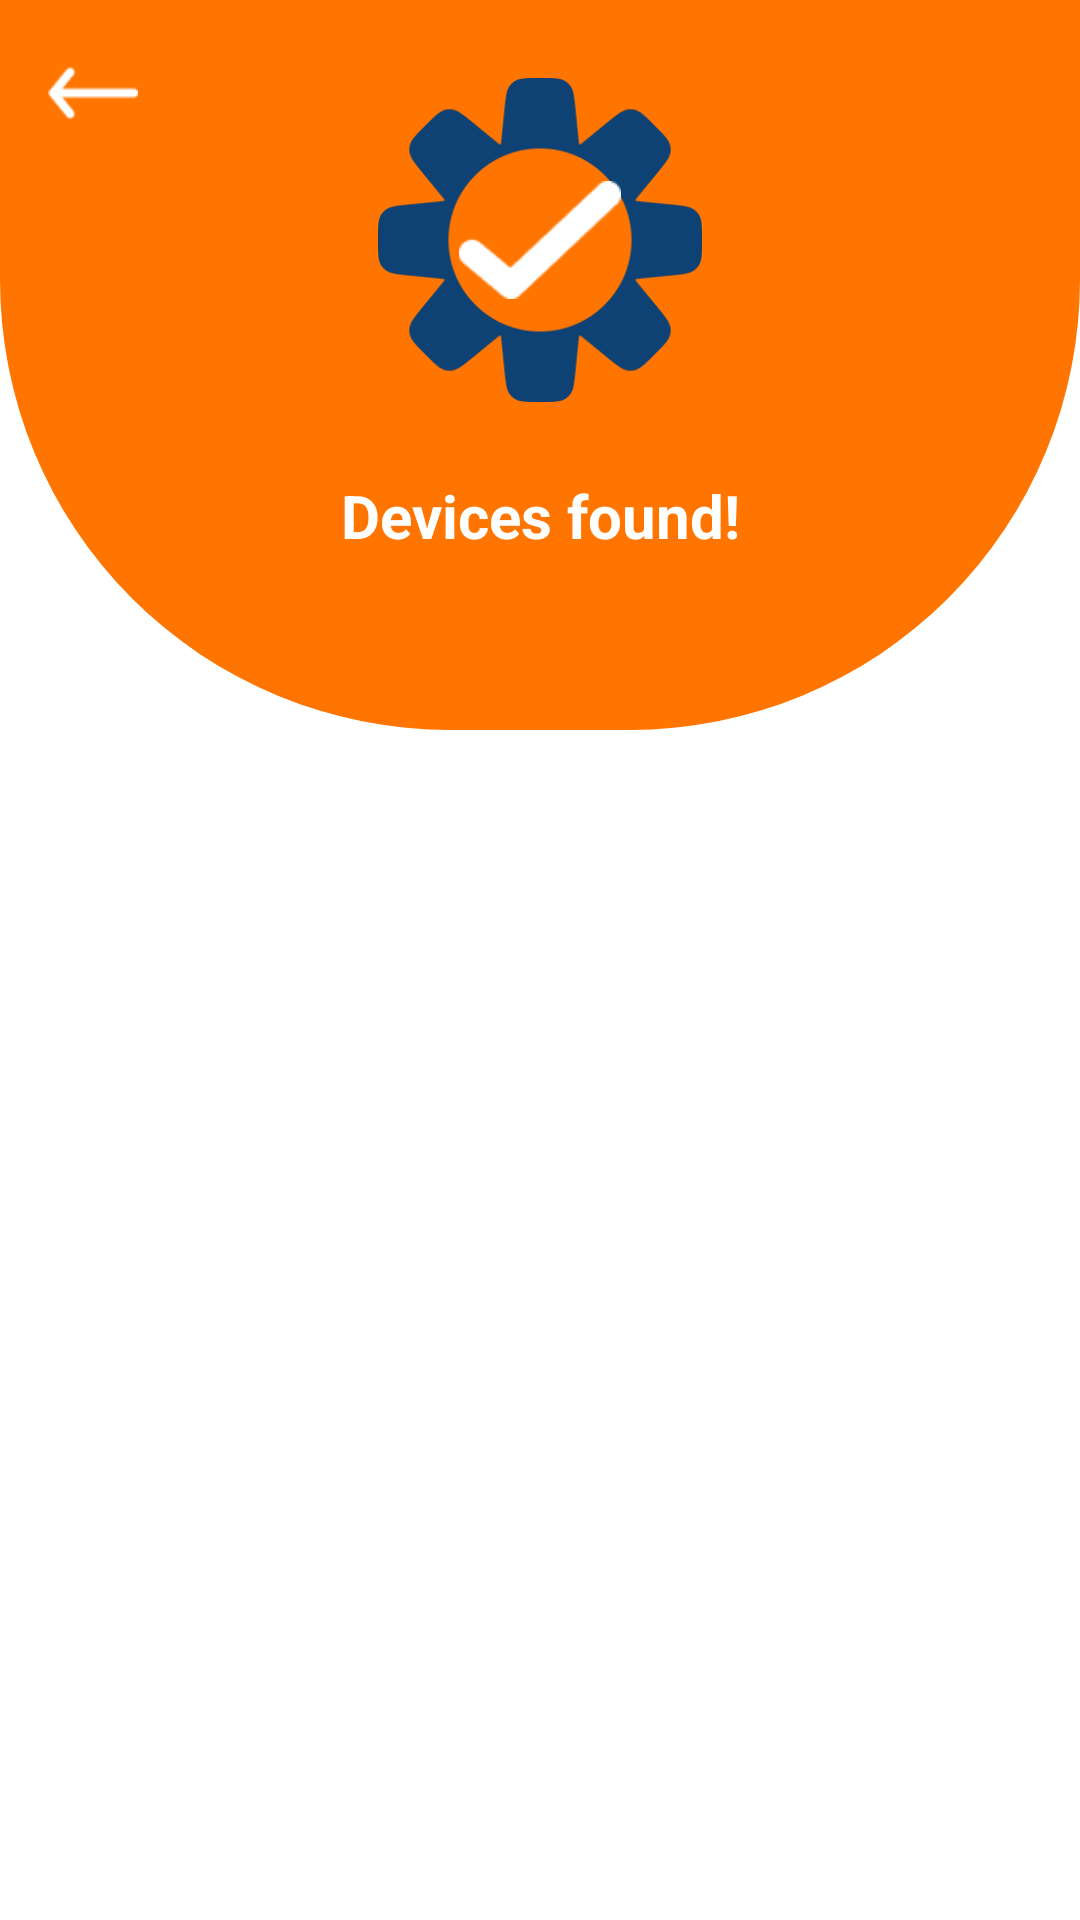

Point at icon controls on the screen. Image size 1080px x 1920px, points as (x,y).
Back: (93,93)
